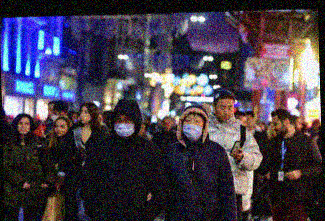with_mask: (180, 115, 203, 140), (112, 113, 135, 137)
without_mask: (215, 102, 234, 120), (271, 119, 287, 137), (52, 121, 68, 136), (15, 119, 30, 135), (78, 107, 91, 125), (161, 117, 171, 130)
